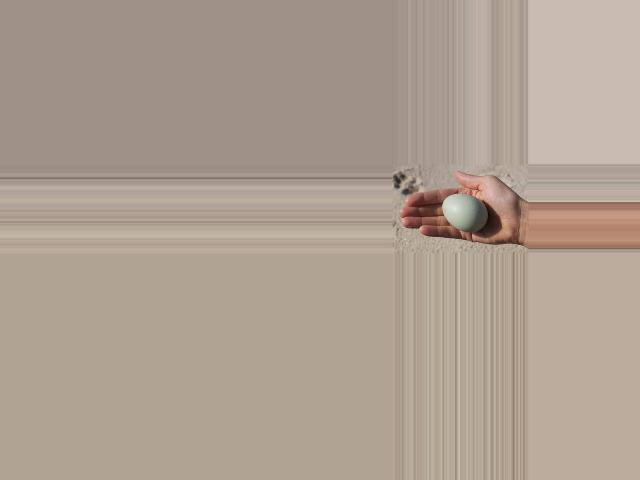egg: (442, 194, 486, 232)
